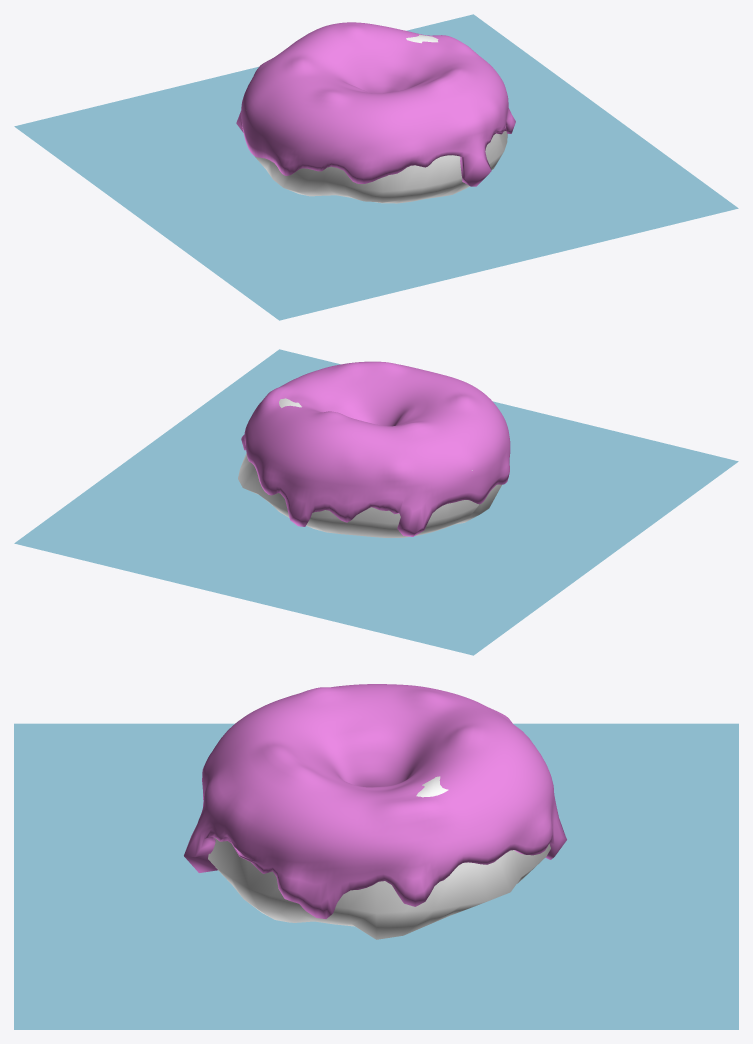
File: Donut.glb
3 renders of one model, top to bottom at view 1: azimuth 30°, elevation 25°; view 2: azimuth 150°, elevation 25°; view 3: azimuth 270°, elevation 25°, orthographic. The views are drawn at different scales.
Parts seen in each view (by area): view 1: Plane, Icing, Donut; view 2: Plane, Icing, Donut; view 3: Plane, Icing, Donut.
Part boxes in pixels (bbox=[...]): Plane: bbox=[14, 14, 738, 320]; Icing: bbox=[236, 22, 515, 186]; Donut: bbox=[246, 34, 507, 203]; Plane: bbox=[14, 349, 738, 655]; Icing: bbox=[241, 361, 510, 536]; Donut: bbox=[238, 398, 501, 537]; Plane: bbox=[14, 723, 738, 1029]; Icing: bbox=[184, 684, 566, 918]; Donut: bbox=[208, 776, 550, 939].
Bounding box in the file's own units: 2 × 0.4737 × 2.
